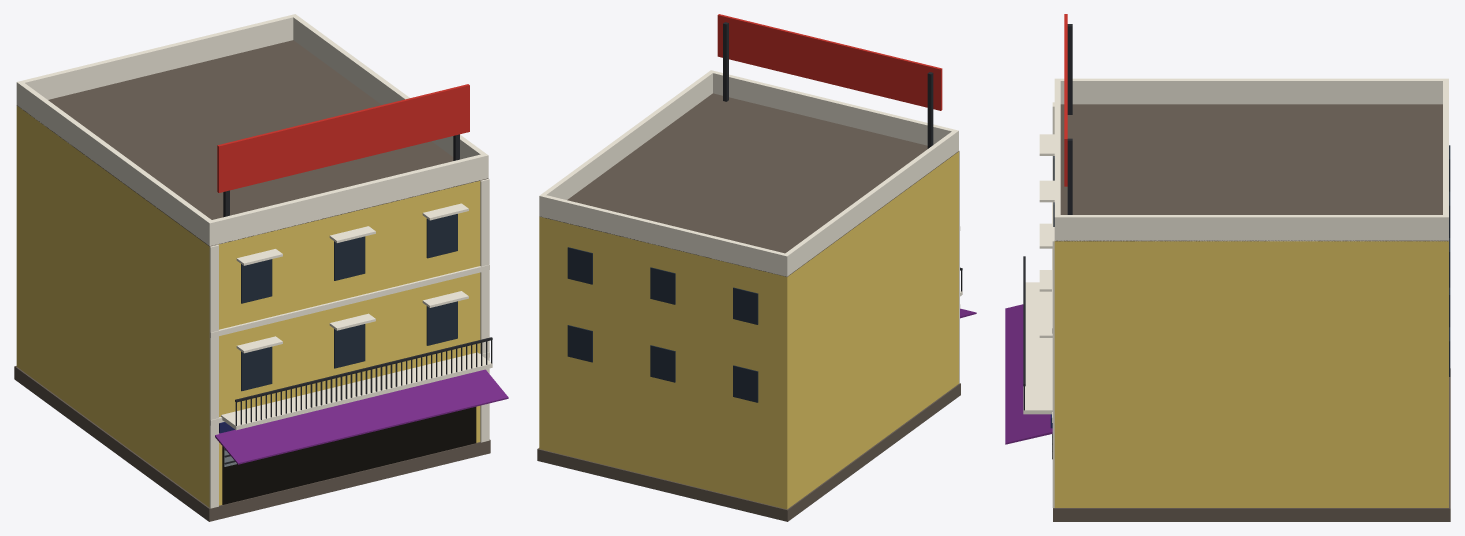
File: bld_ot_shop_04.glb
3 renders of one model, left to right at view 1: azimuth 30°, elevation 25°; view 2: azimuth 150°, elevation 25°; view 3: azimuth 270°, elevation 25°, orthographic. The views are drawn at different scales.
Parts seen in each view (by area): view 1: bld_ot_shop_04; view 2: bld_ot_shop_04; view 3: bld_ot_shop_04.
Boxes of the visible parts, bbox=[...] form: bld_ot_shop_04: bbox=[14, 14, 508, 521]; bld_ot_shop_04: bbox=[537, 14, 976, 521]; bld_ot_shop_04: bbox=[1005, 14, 1450, 521].
Size of what is drawn, in the model's own units: 10.1 by 12.6 by 13.55.
